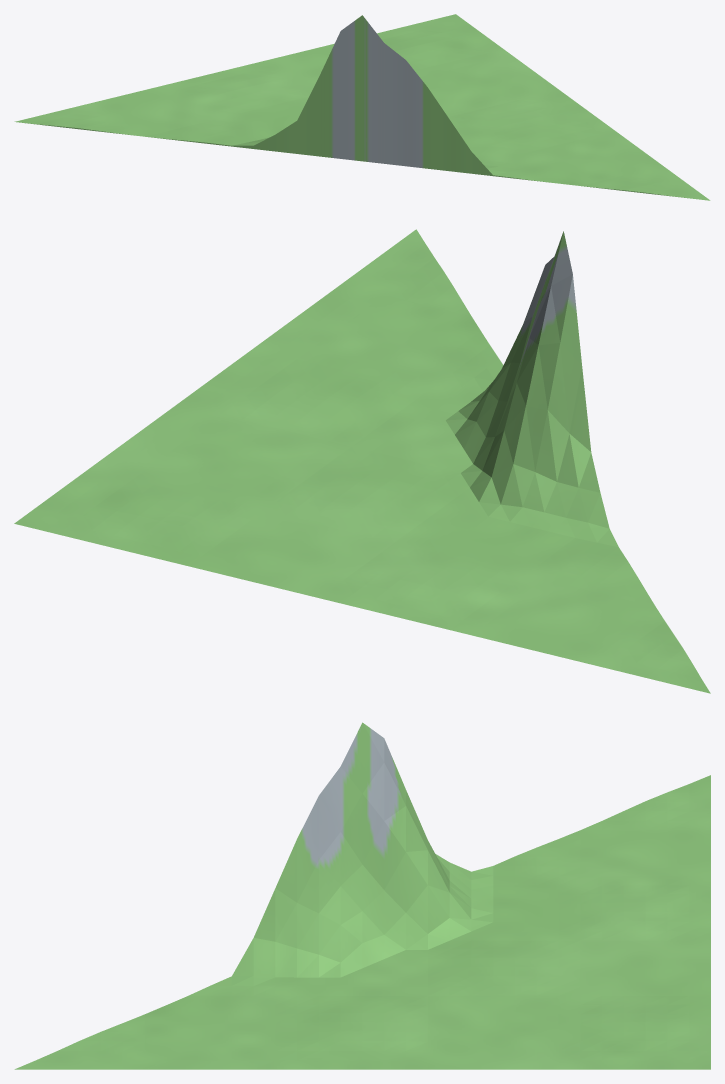
The model's file is Grass_RockyMountains_10_SE.obj.
3 views of the same model, one above another, from view 1: azimuth 30°, elevation 25°; view 2: azimuth 150°, elevation 25°; view 3: azimuth 270°, elevation 25° (orthographic). The views are drawn at different scales.
Size of the model in its own units: 10 by 3.16 by 10.
1 material, 1 textured.
